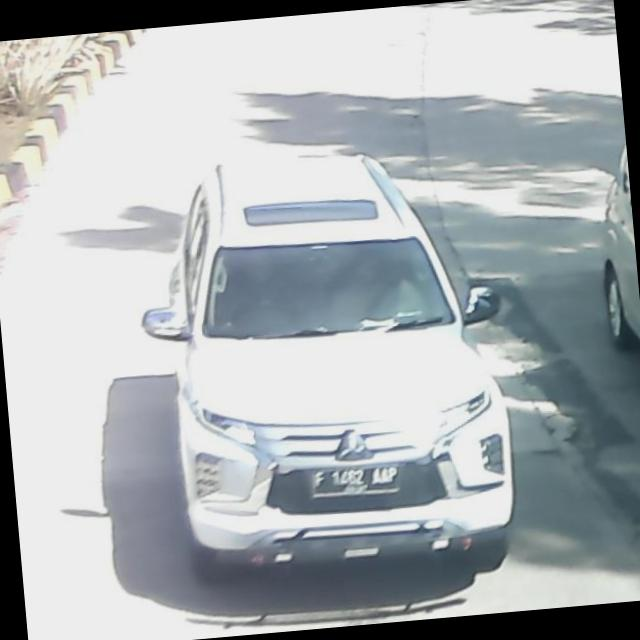plate: (305, 456, 403, 501)
